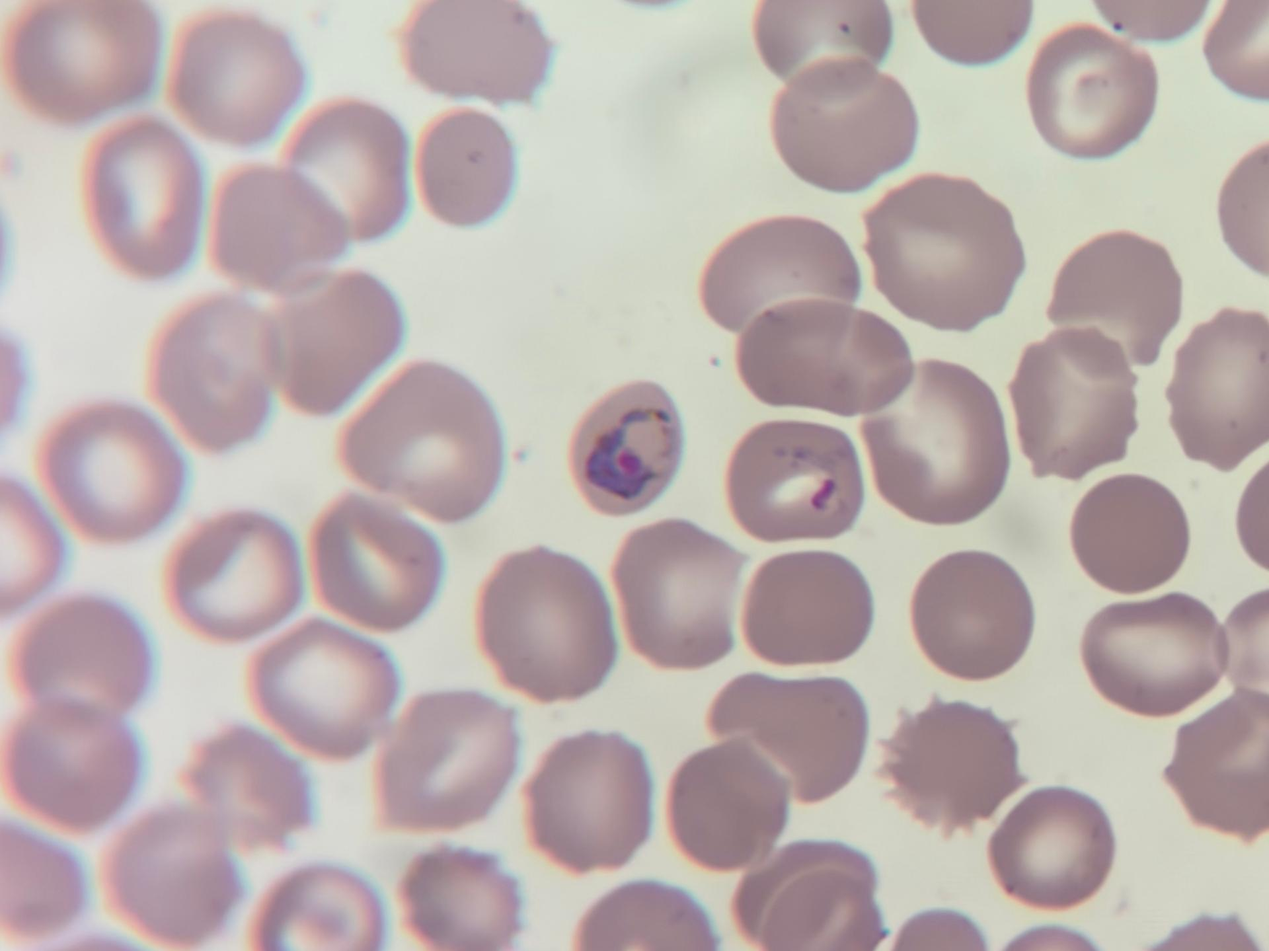Infected: (571, 381, 685, 515)
Uninfected: (338, 361, 502, 522), (861, 174, 1025, 330), (861, 363, 1009, 523), (371, 690, 521, 835), (475, 548, 615, 701), (706, 672, 864, 806), (247, 621, 397, 761), (874, 696, 1026, 834), (149, 294, 280, 449), (36, 403, 183, 540), (265, 267, 401, 412), (610, 521, 745, 666), (1008, 328, 1140, 476), (771, 58, 916, 192), (102, 806, 242, 944), (82, 116, 203, 274), (307, 495, 445, 633), (740, 305, 916, 412), (1046, 231, 1182, 365), (1026, 23, 1159, 160), (519, 731, 649, 871), (165, 510, 305, 640), (207, 165, 350, 292), (700, 218, 856, 334), (5, 697, 140, 831), (280, 99, 406, 239), (167, 11, 301, 142), (177, 723, 312, 852), (9, 2, 155, 120), (10, 594, 151, 716), (726, 419, 865, 541), (732, 841, 882, 951), (666, 739, 790, 872), (1084, 595, 1221, 715), (909, 549, 1034, 679), (1165, 312, 1269, 467), (738, 548, 872, 668), (401, 1, 552, 106), (1167, 691, 1269, 837), (988, 788, 1110, 907), (1070, 475, 1190, 595), (399, 851, 525, 950), (414, 108, 518, 225)
